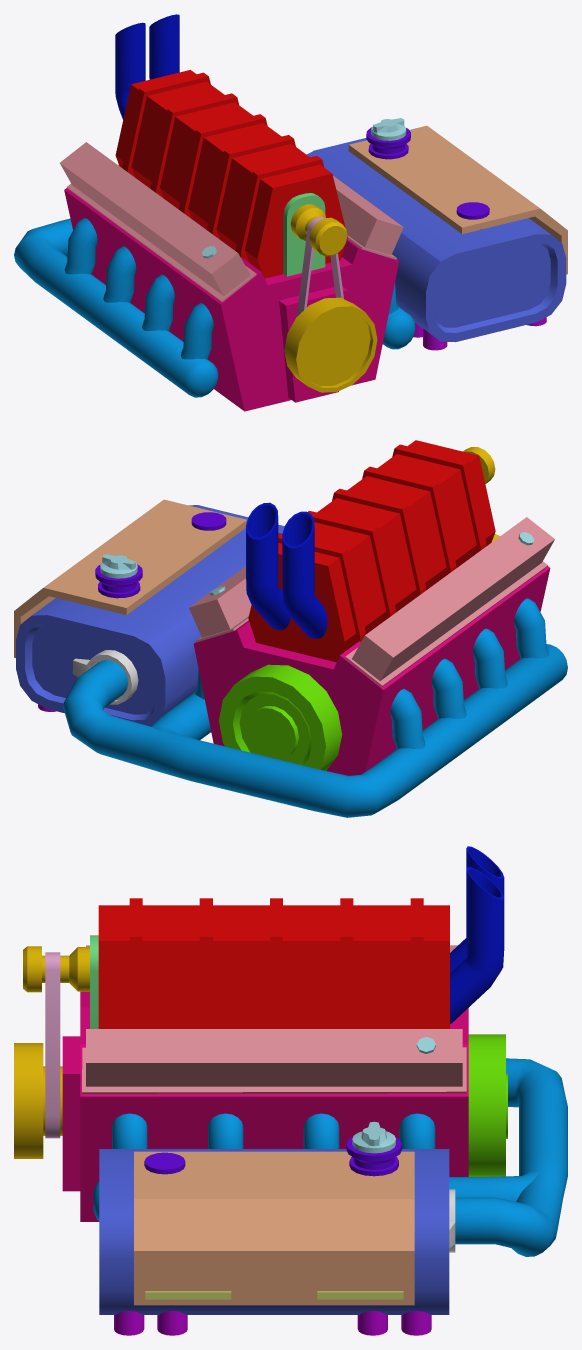
File: EngineModule.glb
3 renders of one model, top to bottom at view 1: azimuth 30°, elevation 25°; view 2: azimuth 150°, elevation 25°; view 3: azimuth 270°, elevation 25°, orthographic. The views are drawn at different scales.
Parts seen in each view (by area): view 1: Cube.013, Cube.012, Cube.011, Cube.016, Cylinder.023, Cube.019, Cylinder.009, Cylinder.024, Cylinder.027, Cube.014, Cube.017, Cylinder.012 (+4 smaller); view 2: Cube.013, Cylinder.023, Cube.012, Cube.011, Cube.016, Cube.019, Cylinder.011, Cylinder.027, Cylinder.024, Cylinder.026, Cylinder.020, Cylinder.021 (+2 smaller); view 3: Cube.013, Cube.019, Cube.016, Cube.011, Cube.012, Cylinder.023, Cylinder.027, Cylinder.011, Cylinder.025, Cylinder.009, Cube.017, Cube.020 (+8 smaller).
Boxes of the visible parts, box(x1,y1,x2,y2) form: Cube.013: box(115, 70, 347, 278); Cube.012: box(306, 138, 566, 342); Cube.011: box(64, 188, 399, 411); Cube.016: box(60, 142, 403, 302); Cylinder.023: box(14, 218, 415, 397); Cube.019: box(348, 125, 567, 274); Cylinder.009: box(284, 297, 377, 392); Cylinder.024: box(64, 218, 213, 359); Cylinder.027: box(115, 14, 179, 119); Cube.014: box(283, 193, 325, 276); Cube.017: box(296, 216, 343, 316); Cylinder.012: box(309, 217, 347, 256); Cube.013: box(248, 440, 495, 662); Cylinder.023: box(63, 644, 567, 817); Cube.012: box(16, 505, 284, 726); Cube.011: box(193, 566, 550, 775); Cube.016: box(189, 517, 554, 687); Cube.019: box(14, 499, 247, 657); Cylinder.011: box(219, 664, 342, 770); Cylinder.027: box(246, 502, 327, 638); Cylinder.024: box(390, 598, 548, 748); Cylinder.026: box(73, 650, 138, 704); Cylinder.020: box(95, 564, 142, 598); Cylinder.021: box(100, 554, 137, 578); Cube.013: box(98, 898, 449, 1028); Cube.019: box(134, 1151, 414, 1305); Cube.016: box(82, 945, 466, 1093); Cube.011: box(62, 991, 468, 1221); Cube.012: box(99, 1149, 449, 1314); Cylinder.023: box(93, 1058, 567, 1256); Cylinder.027: box(450, 846, 504, 1023); Cylinder.011: box(468, 1034, 507, 1176); Cylinder.025: box(112, 1113, 435, 1148); Cylinder.009: box(14, 1043, 43, 1158); Cube.017: box(45, 952, 60, 1138); Cube.020: box(145, 1291, 403, 1299).
Bounding box in the file's own units: 4.33 × 2.73 × 4.22.
